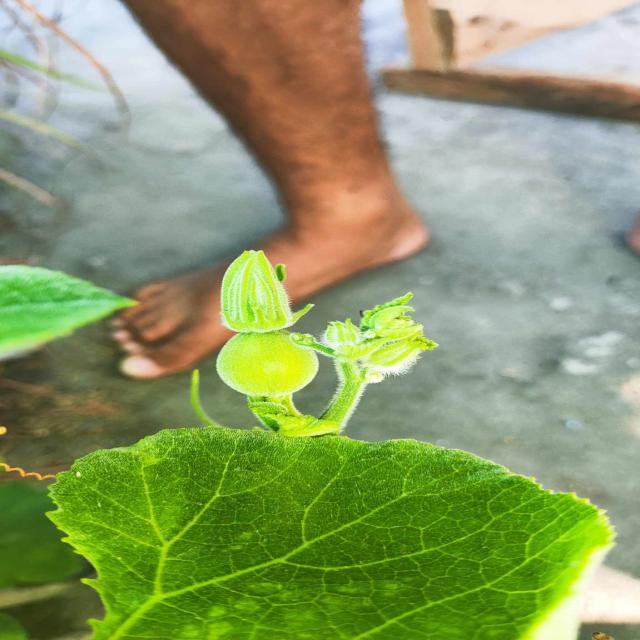flower: (209, 246, 324, 336)
